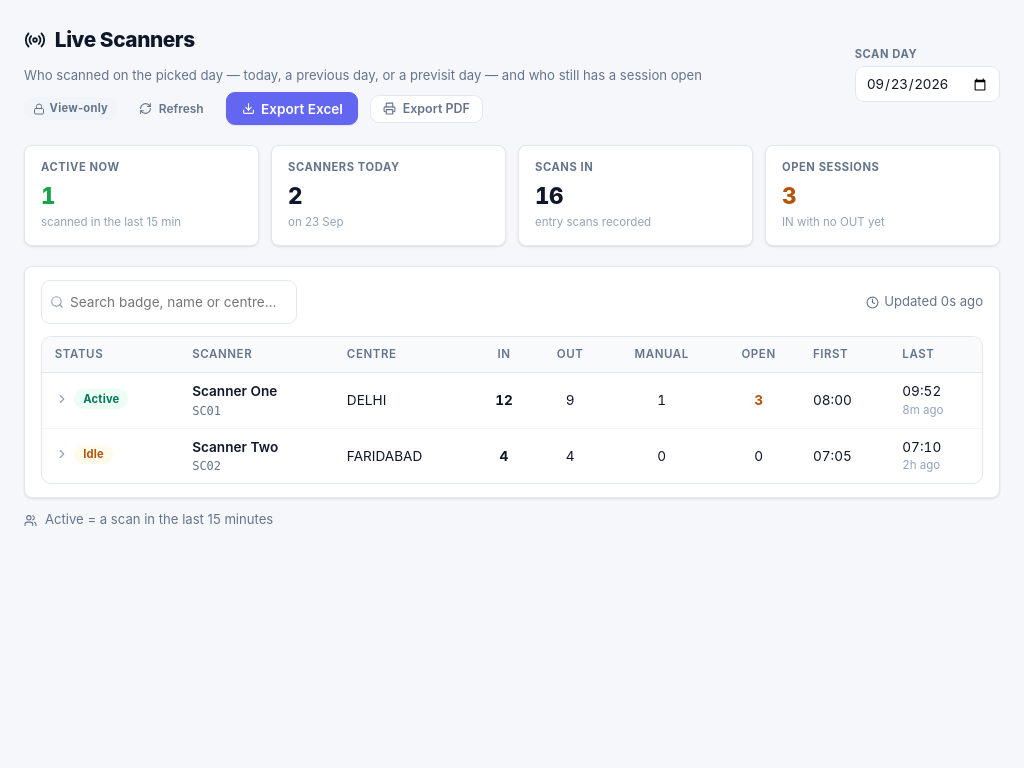
Test: L2 — the open-session drill-down is fetched lazily › shows an empty state, not a blank panel, when nothing is open
Click the button with aria-label "open sessions for scanner one" at x=92, y=399, box [55,389,128,409]
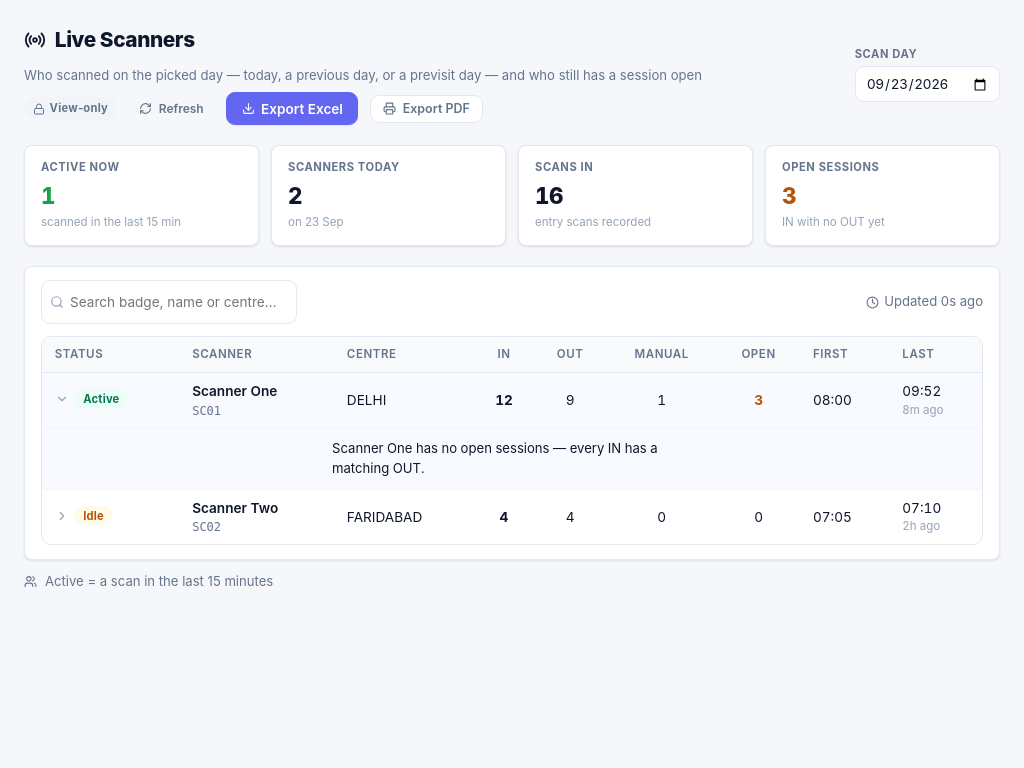
Expected: the text "no open sessions" is shown, [332,440,658,476]
